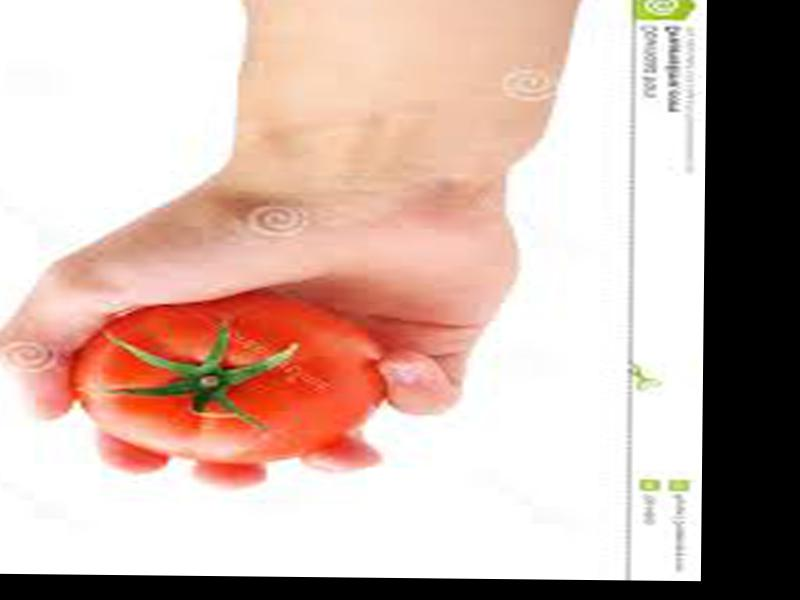Tomato: (76, 295, 389, 464)
